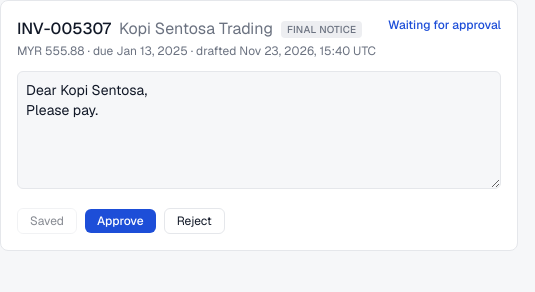
Test: reminders › undoes unsaved changes and shows a refused decision
Step 1. Replace the text in the text box named "Draft for INV-005307" with "changed" → (259, 130), box [17,71,501,189]
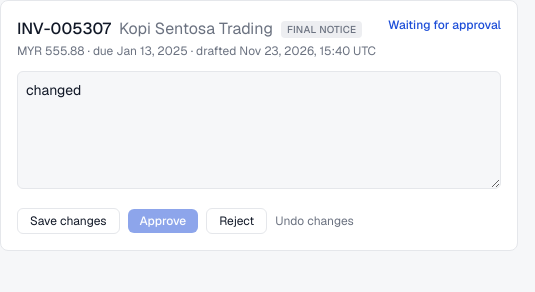
Step 2. Click the button "Undo changes" → click(315, 221), box [275,213,354,229]
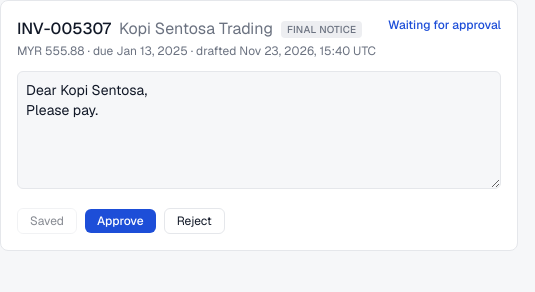
Step 3. Click the button "Reject" → click(194, 221), box [164,208,225,234]
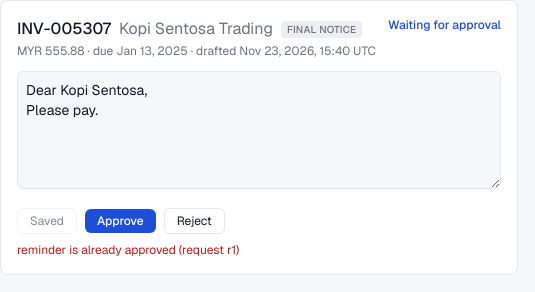
Expected: the message reads "reminder is already approved (request r1)", [17,242,239,258]
